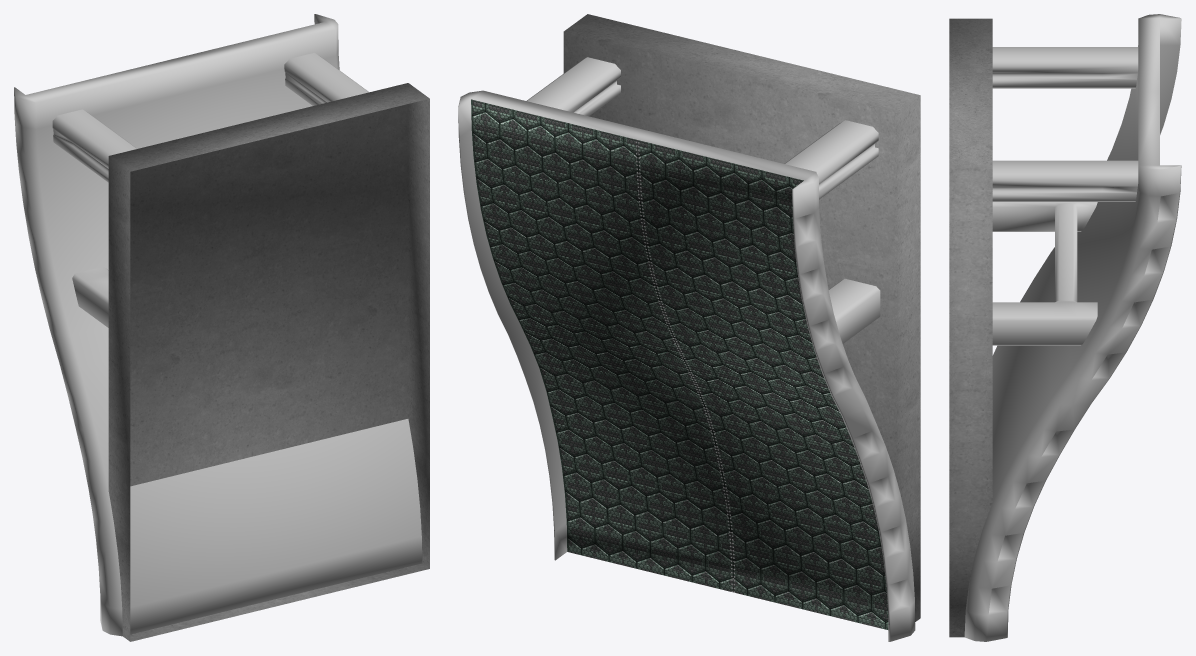
Rendered from highway_ramp_B.fbx.
The picture shows the model from 3 angles, left to right: view 1: azimuth 30°, elevation 25°; view 2: azimuth 150°, elevation 25°; view 3: azimuth 270°, elevation 25°; orthographic projection. The views are drawn at different scales.
Visible parts, largest first — view 1: highway_ramp_B; view 2: highway_ramp_B, light_011; view 3: highway_ramp_B.
Boxes of the visible parts, <box> form: highway_ramp_B: <box>14,14,429,641</box>; highway_ramp_B: <box>458,14,920,641</box>; light_011: <box>635,141,735,592</box>; highway_ramp_B: <box>949,14,1181,641</box>.
Size of the model in its own units: 8.5 by 12 by 5.35.
